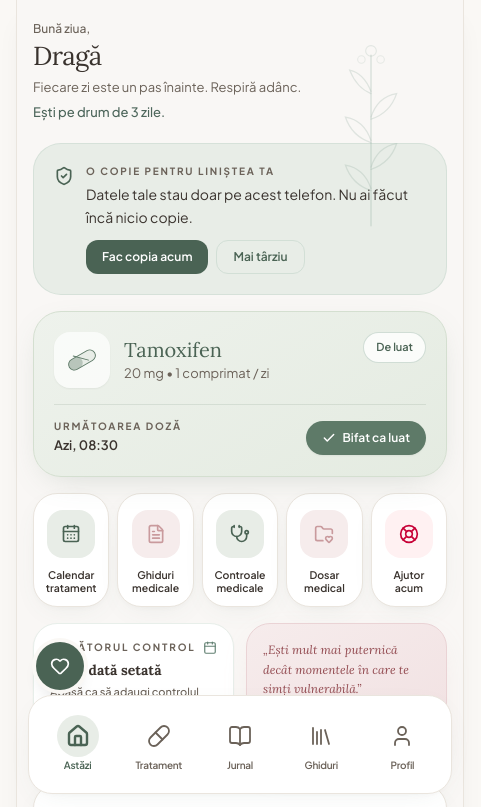
Test: Istoric: somnul 3 apare doar la notele noi › ascunde 3 la notele de dinainte de 11 octombrie (era pus din oficiu), îl arată la cele noi
The width and height of the screenshot is (481, 807).
Click the button "Jurnal" at (240, 744), box x1=199 y1=706 x2=281 y2=783
(page scrolled)
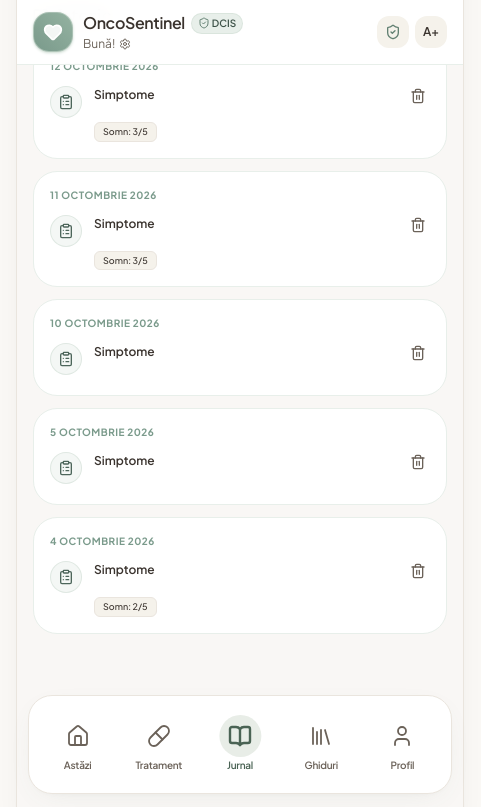
Result: the text "Somn: 3/5" is shown 2 times at x1=94 y1=122 x2=157 y2=142; x1=94 y1=251 x2=157 y2=270
Result: the text "Somn: 2/5" is shown at x1=94 y1=597 x2=157 y2=617
